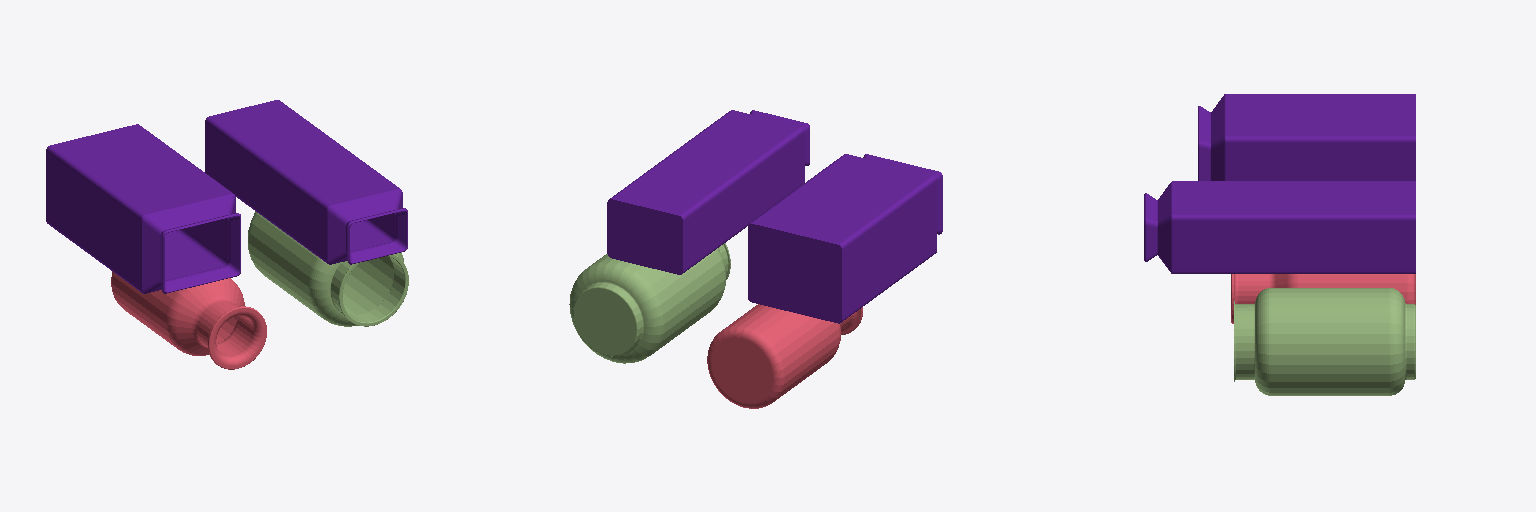
Rendered from Glass_vases_set.obj.
The picture shows the model from 3 angles: view 1: azimuth 30°, elevation 25°; view 2: azimuth 150°, elevation 25°; view 3: azimuth 270°, elevation 25°; orthographic projection.
Visible parts, largest first — view 1: glass_vase_004, glass_vase_006, glass_vase_007, glass_vase_005; view 2: glass_vase_004, glass_vase_006, glass_vase_007, glass_vase_005; view 3: glass_vase_006, glass_vase_004, glass_vase_007, glass_vase_005.
Part boxes in pixels (x1,y1,x2,y2): glass_vase_004: (46,124,240,293); glass_vase_006: (205,100,407,264); glass_vase_007: (248,211,408,326); glass_vase_005: (111,271,266,369); glass_vase_004: (748,154,942,323); glass_vase_006: (607,110,809,274); glass_vase_007: (569,243,730,363); glass_vase_005: (707,304,862,408); glass_vase_006: (1144,181,1415,273); glass_vase_004: (1198,94,1415,180); glass_vase_007: (1234,288,1415,395); glass_vase_005: (1231,274,1415,323).
Size of the model in its own units: 35.41 by 22.57 by 29.33.